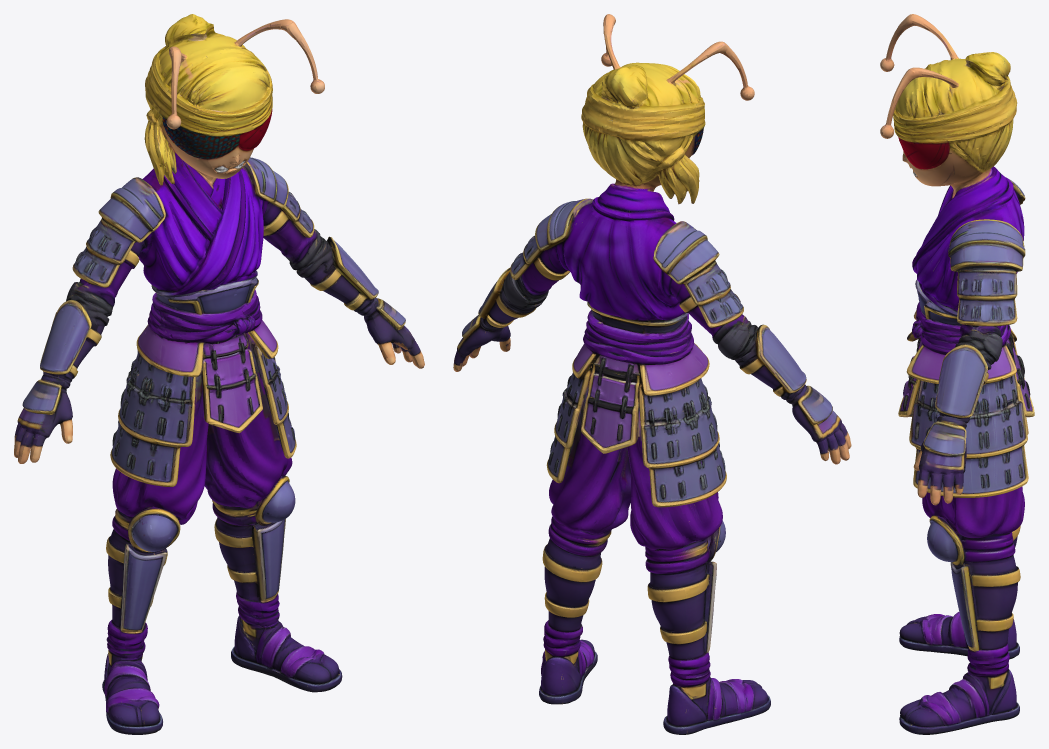
The model's file is rebel_469_static_source_armored_v2.glb.
The picture shows the model from 3 angles, left to right: view 1: azimuth 30°, elevation 25°; view 2: azimuth 150°, elevation 25°; view 3: azimuth 270°, elevation 25°; orthographic projection. The views are drawn at different scales.
Parts seen in each view (by area): view 1: Mesh_0; view 2: Mesh_0; view 3: Mesh_0.
Part boxes in pixels (left/top/right/bottom): Mesh_0: left=14, top=14, right=424, bottom=734; Mesh_0: left=453, top=14, right=851, bottom=734; Mesh_0: left=880, top=14, right=1034, bottom=734.
Size of the model in its own units: 1.19 by 1.9 by 0.4151.
1 material, 1 textured.
